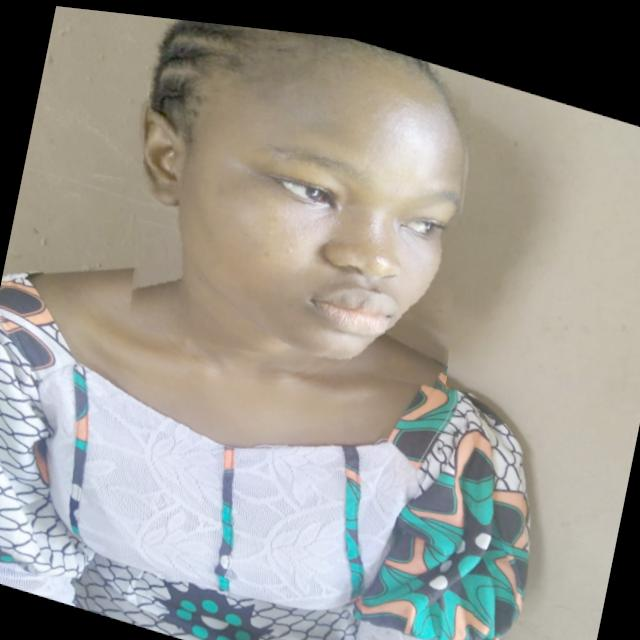sad: (104, 9, 498, 406)
